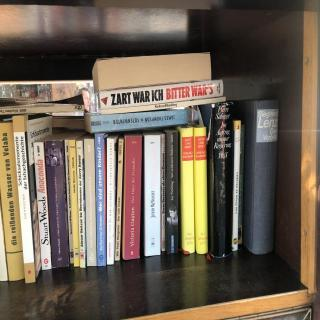book-spine: (250, 99, 279, 255), (97, 78, 225, 111), (0, 120, 25, 282), (12, 115, 36, 283), (209, 103, 233, 258), (45, 133, 69, 268), (84, 106, 189, 135), (84, 106, 188, 134), (121, 130, 143, 260), (33, 135, 53, 270), (90, 108, 188, 134), (177, 125, 195, 254), (143, 130, 161, 257), (67, 133, 83, 267), (192, 124, 208, 254), (83, 134, 97, 267), (104, 135, 118, 265), (164, 128, 178, 253), (95, 133, 108, 266), (0, 95, 85, 115), (230, 120, 241, 251), (114, 135, 124, 261), (64, 138, 74, 264), (237, 124, 245, 244), (161, 132, 166, 252)
